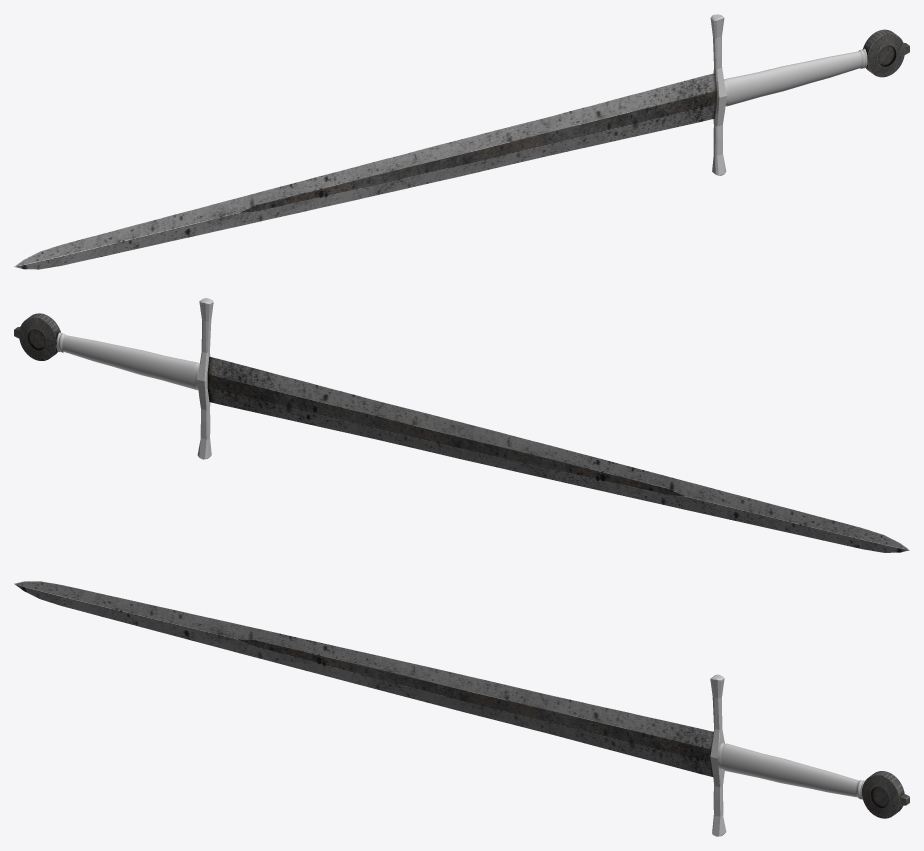
The model's file is sword_dirty.obj.
The picture shows the model from 3 angles, top to bottom: view 1: azimuth 30°, elevation 25°; view 2: azimuth 150°, elevation 25°; view 3: azimuth 330°, elevation 25°; orthographic projection.
Parts seen in each view (by area): view 1: Cube.001_Cube.004, Cylinder.001, Cube_Cube.003, Cylinder; view 2: Cube.001_Cube.004, Cylinder.001, Cube_Cube.003, Cylinder; view 3: Cube.001_Cube.004, Cylinder.001, Cube_Cube.003, Cylinder.
Boxes of the visible parts, x1,y1,x2,y2 form: Cube.001_Cube.004: (14,73,716,269); Cylinder.001: (724,48,867,106); Cube_Cube.003: (710,14,726,175); Cylinder: (863,29,909,77); Cube.001_Cube.004: (207,356,909,552); Cylinder.001: (56,332,199,390); Cube_Cube.003: (197,298,213,459); Cylinder: (14,313,60,360); Cube.001_Cube.004: (14,581,713,776); Cylinder.001: (718,742,864,799); Cube_Cube.003: (710,674,726,836); Cylinder: (862,771,909,818).
Bounding box in the file's own units: 9.17 × 1.55 × 0.1609.
